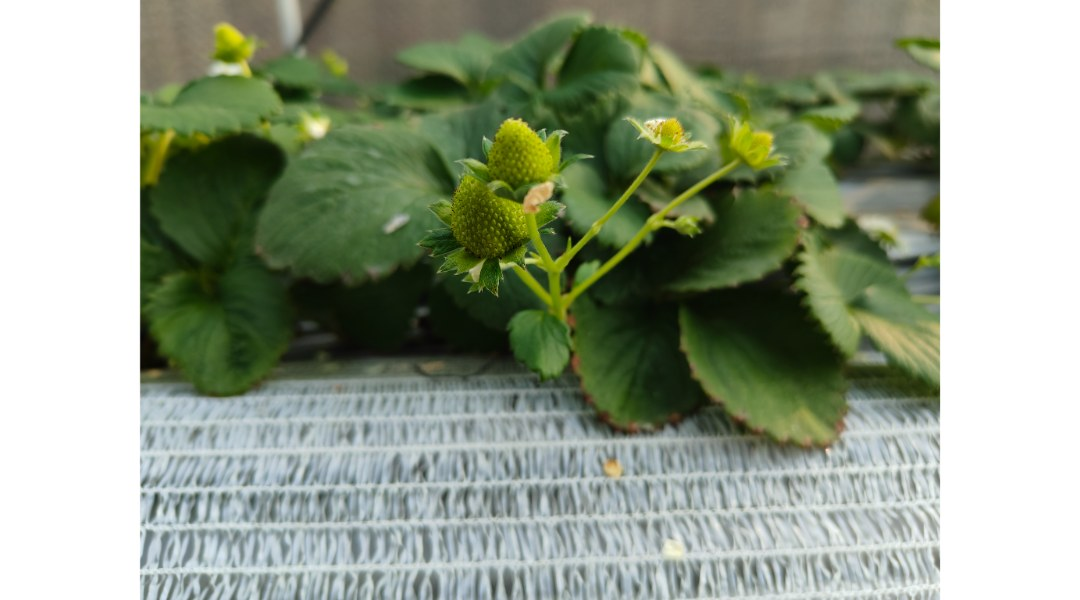berry: (586, 158, 744, 302), (437, 169, 530, 265), (571, 149, 652, 256), (474, 114, 571, 195), (726, 111, 800, 178), (194, 21, 259, 76), (633, 109, 698, 162), (550, 274, 568, 336)
